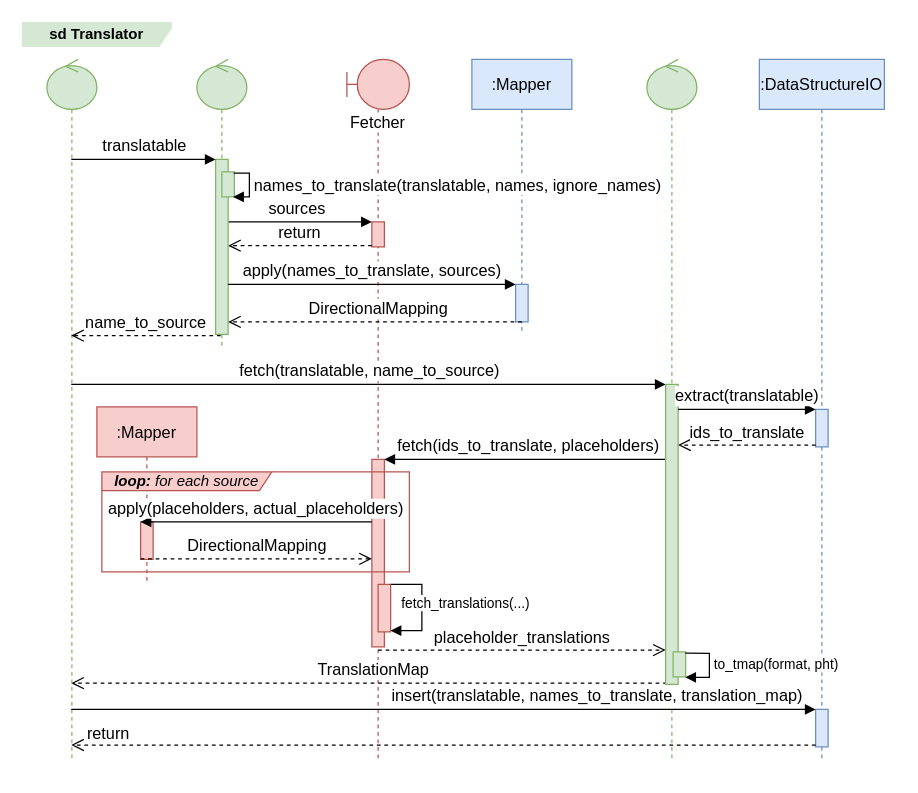
This 918x793 diagram has some shape labels left out. Each missing label, with the box of its shape:
fetch(): (646, 58, 697, 759)
map(): (196, 58, 247, 347)
translate(): (46, 58, 97, 759)
